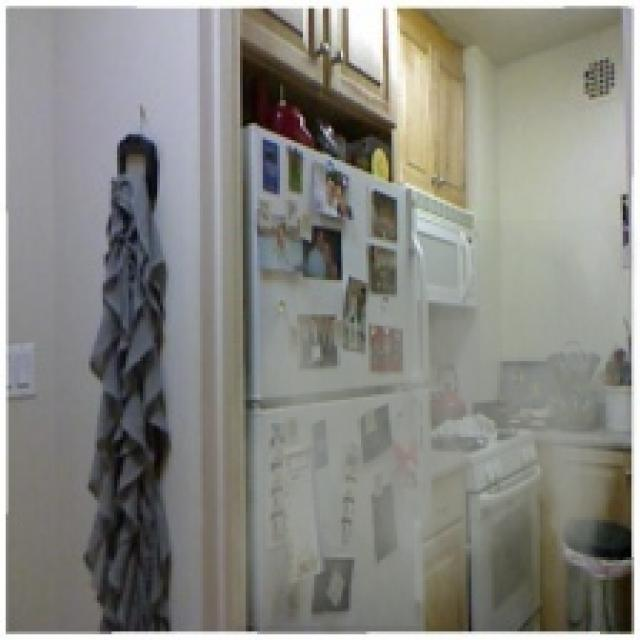smoke: (232, 220, 637, 634)
